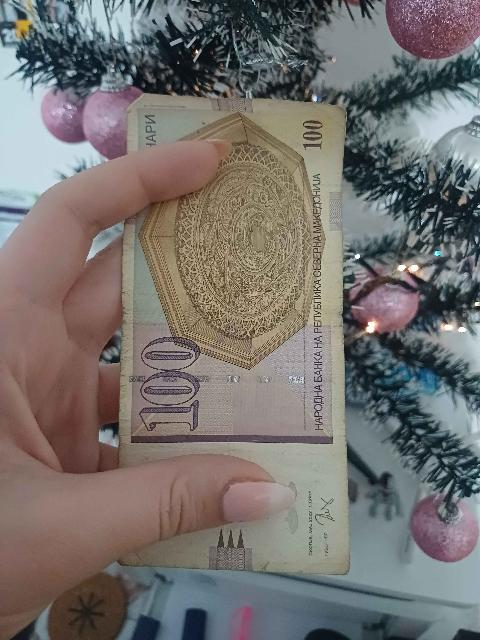100_note: (120, 95, 348, 573)
